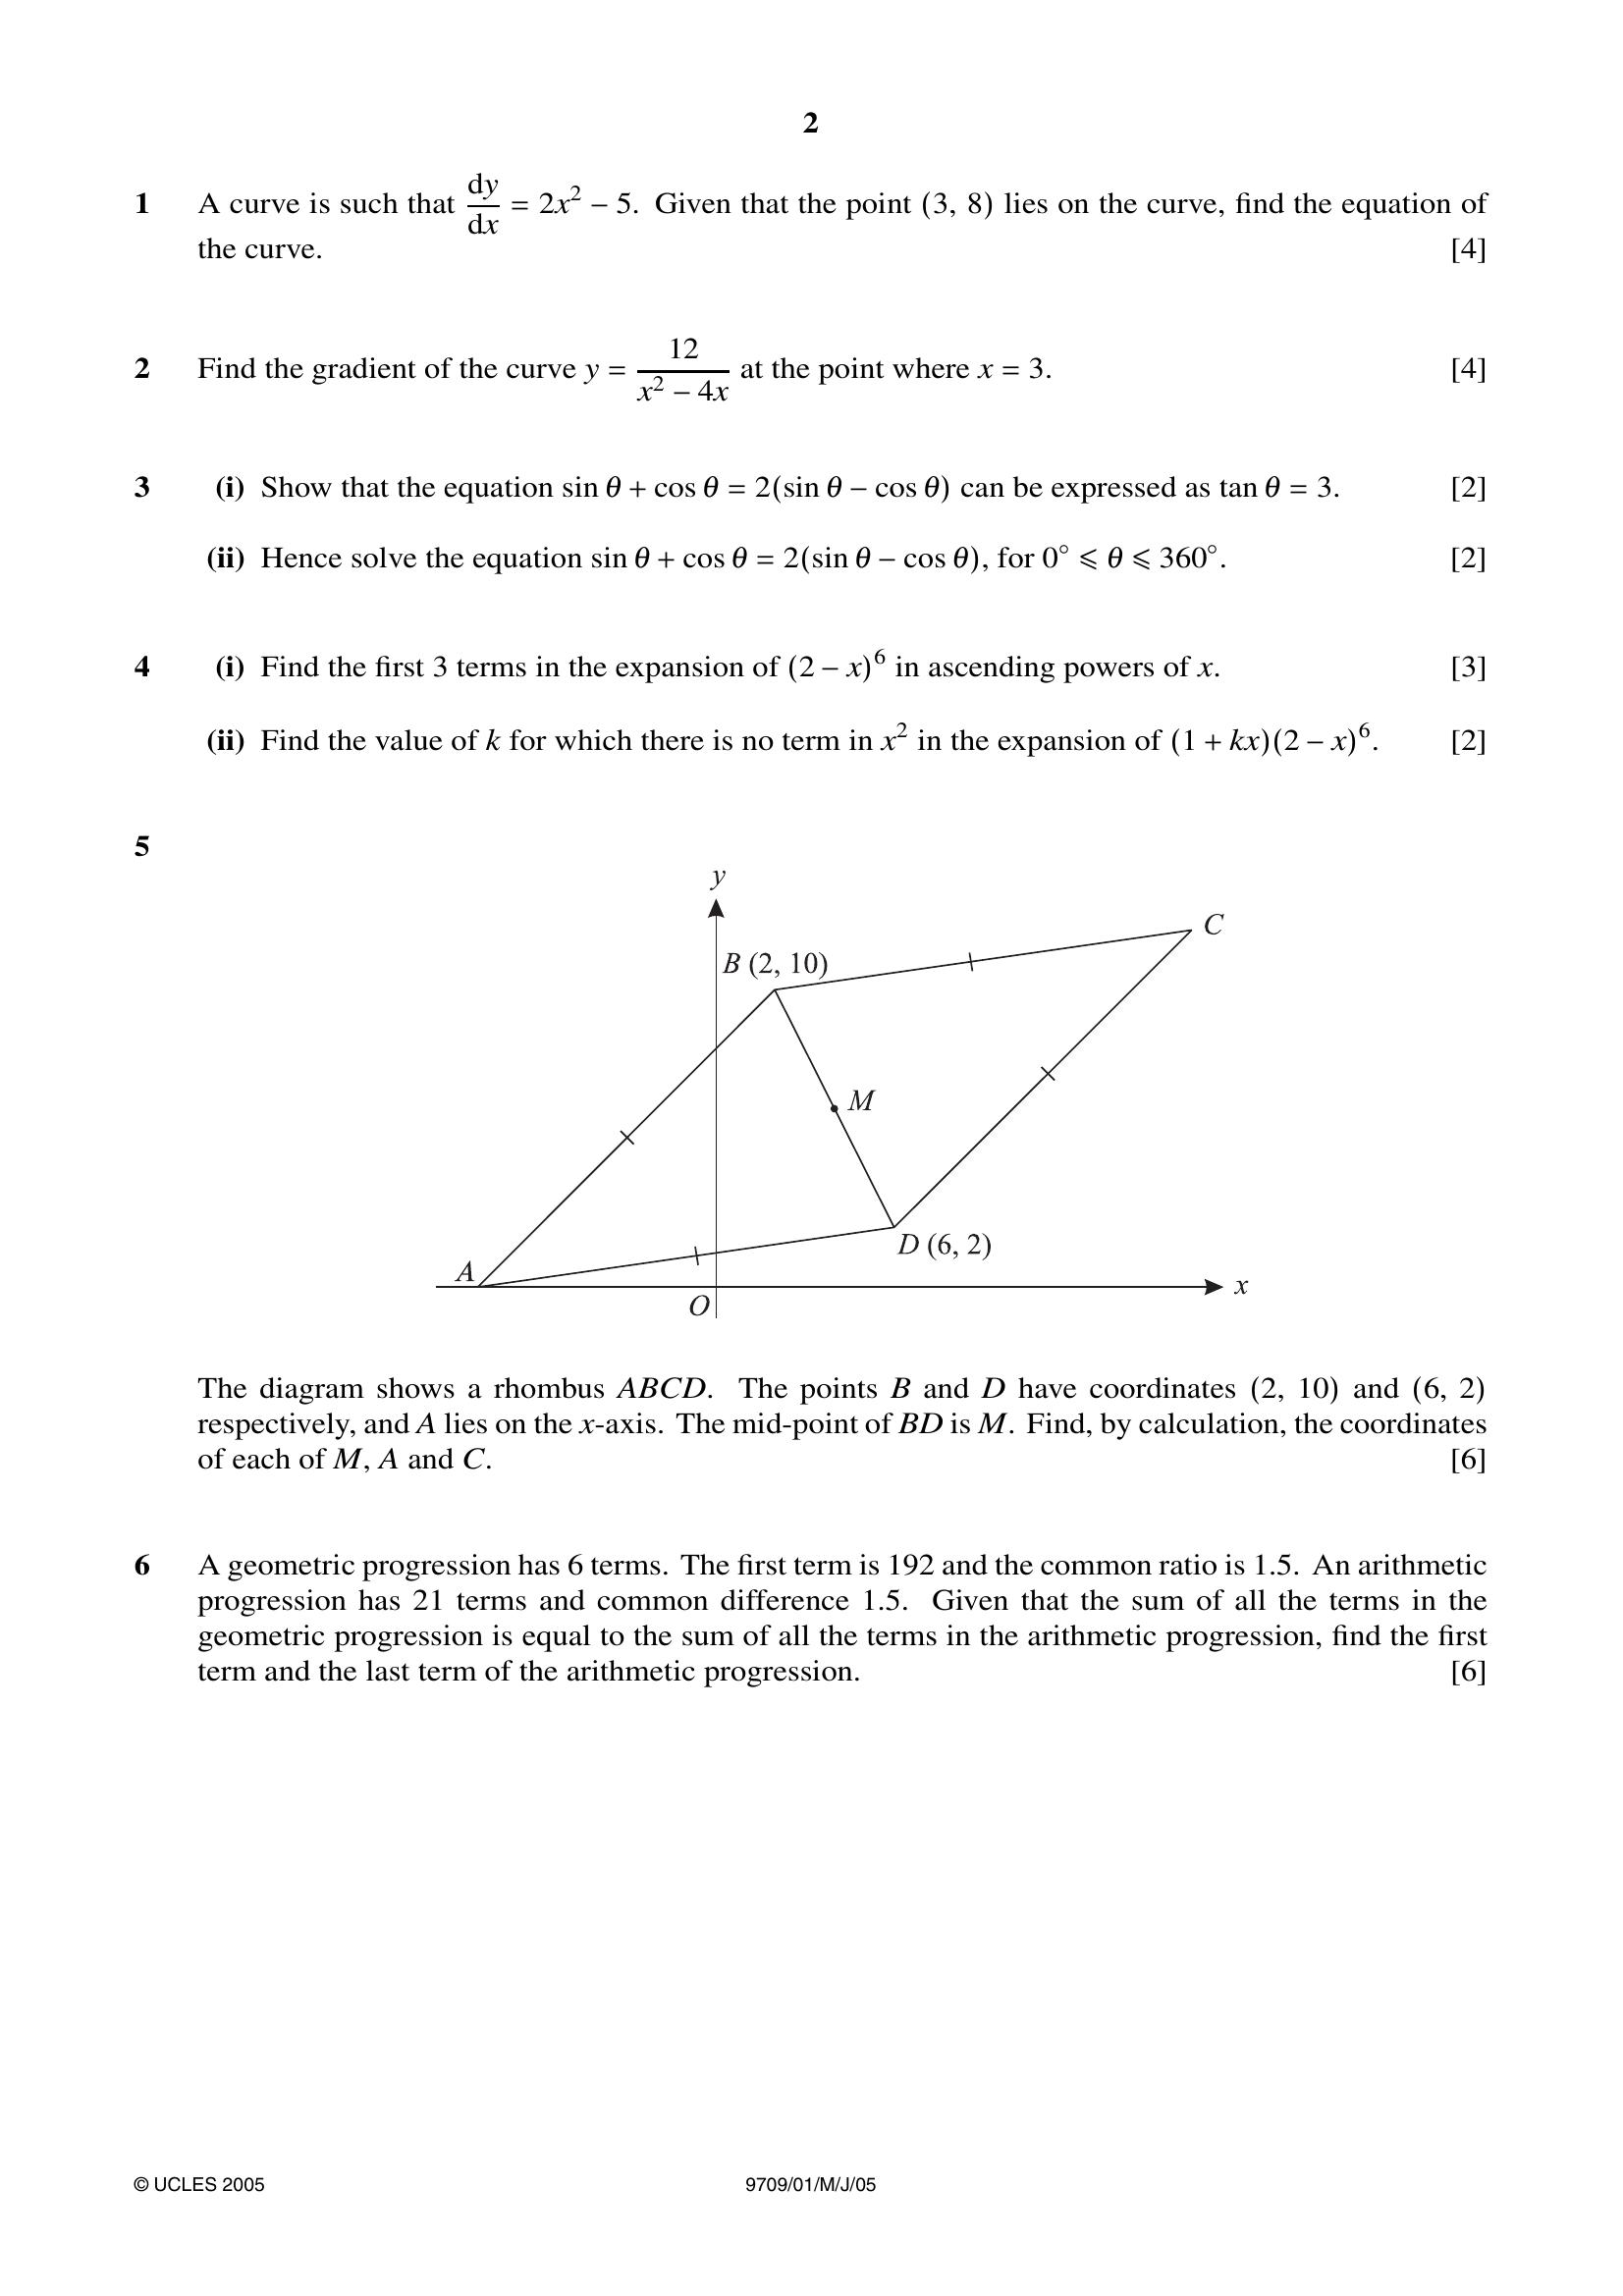question: (2, 816, 1609, 1532), (5, 1546, 1623, 1833), (2, 630, 1623, 806), (2, 151, 1623, 302), (2, 458, 1619, 604), (2, 316, 1623, 446)
